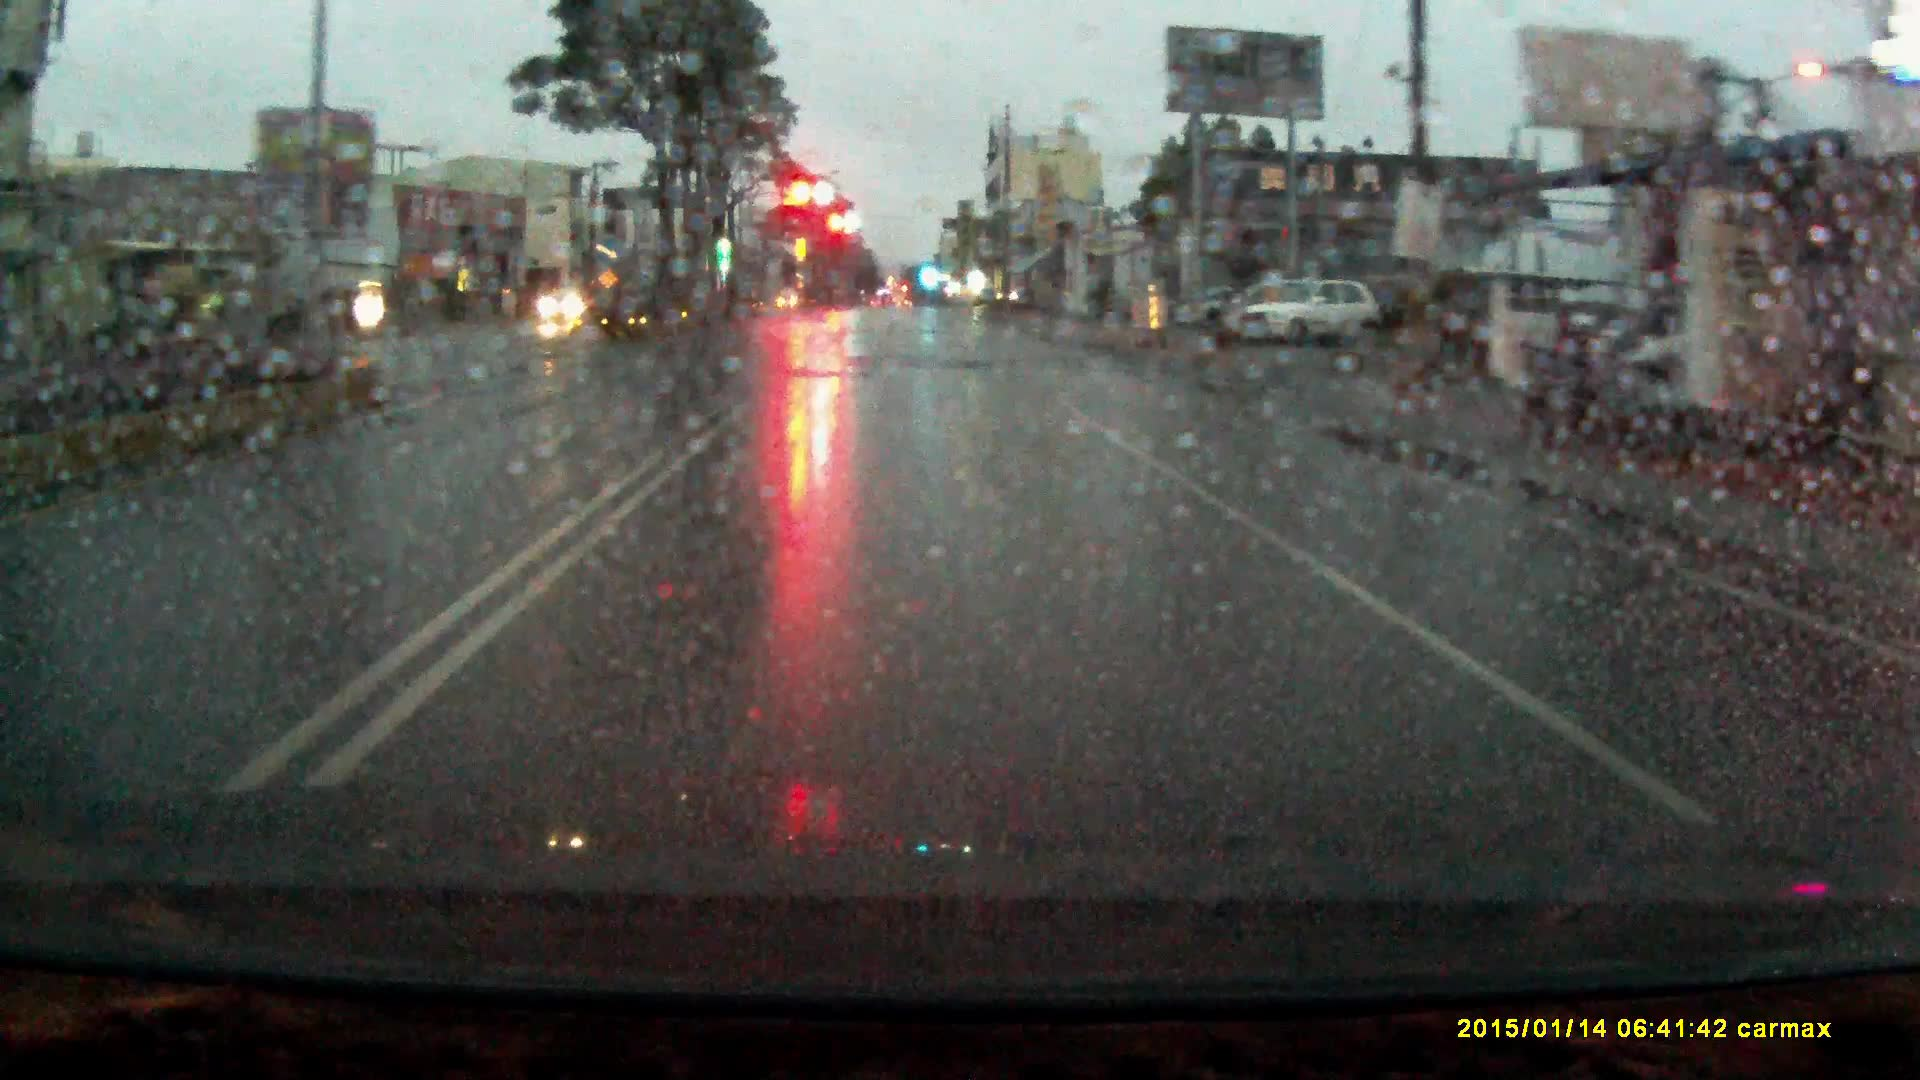vehicle: (1229, 274, 1386, 347), (1205, 284, 1324, 348), (542, 287, 597, 327), (994, 287, 1038, 310)
